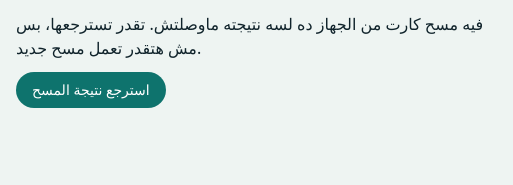
Test: does not carry a result into another workspace
The image size is (513, 185).
Click the button: (91,90) [16, 72, 166, 108]
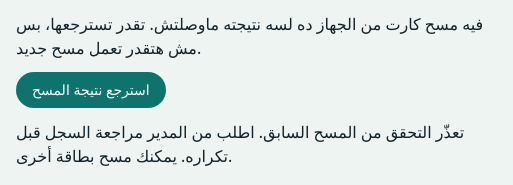
Result: the message is not empty at [16, 120, 496, 168]
